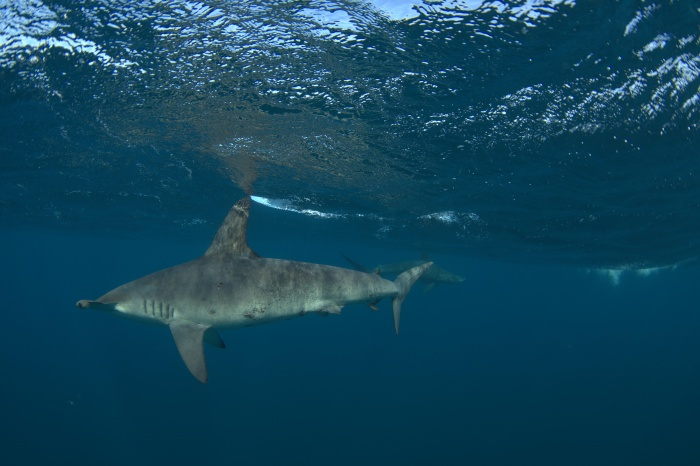Hammer: (69, 174, 455, 409)
